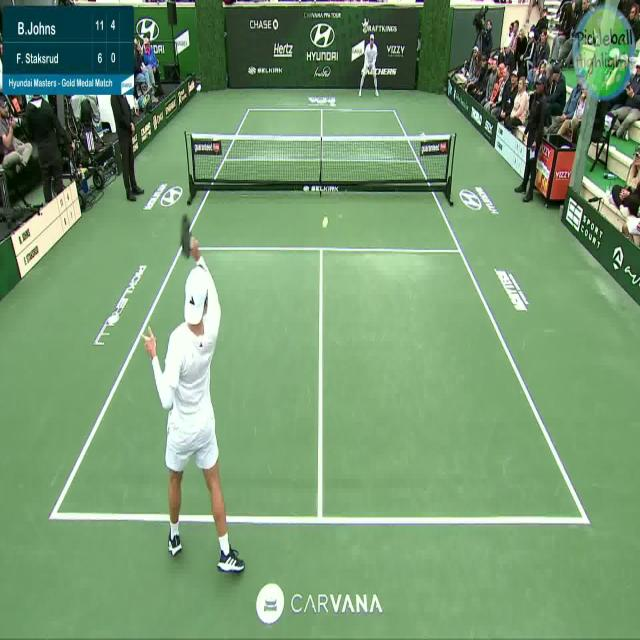ball: (318, 209, 329, 229)
